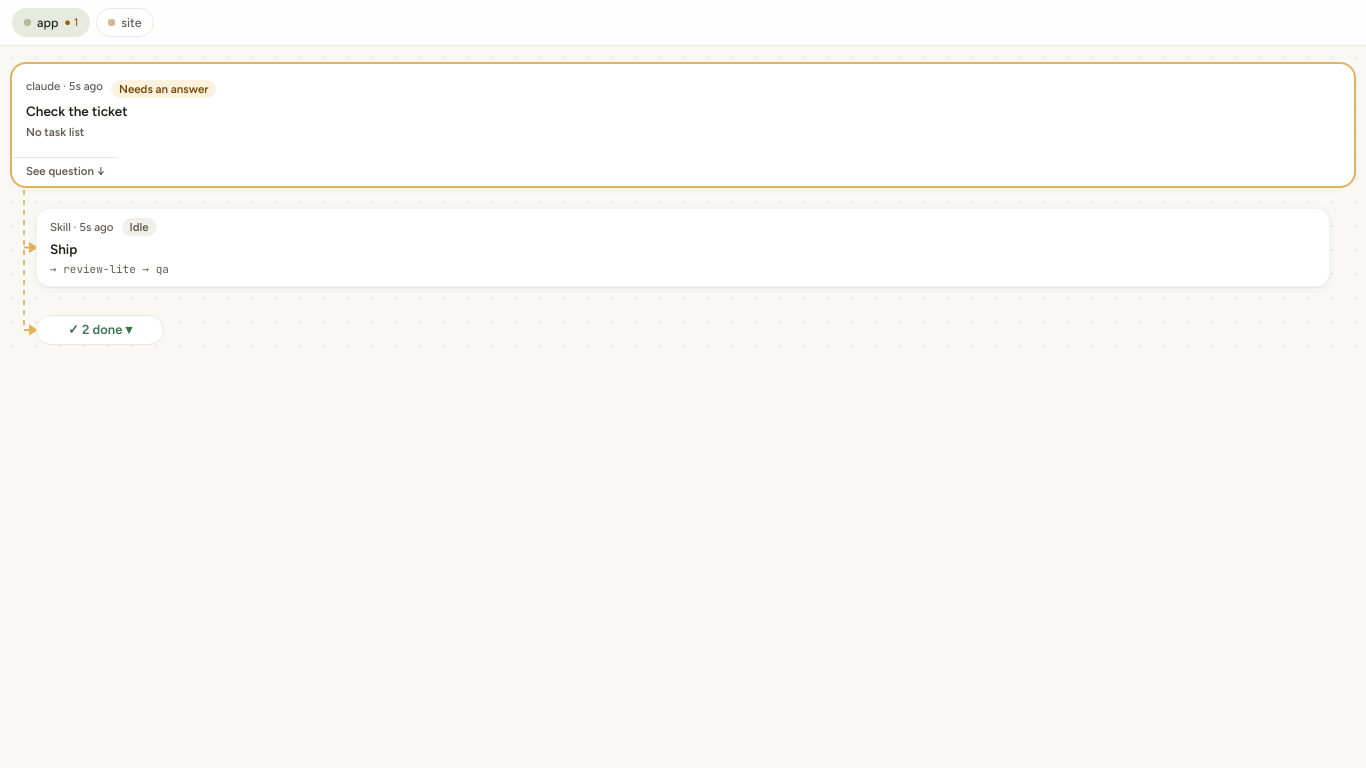
phone map › a card waiting on you opens its question in a sheet
Click the button "Needs an answer" at (683,125), box x1=12 y1=64 x2=1354 y2=186
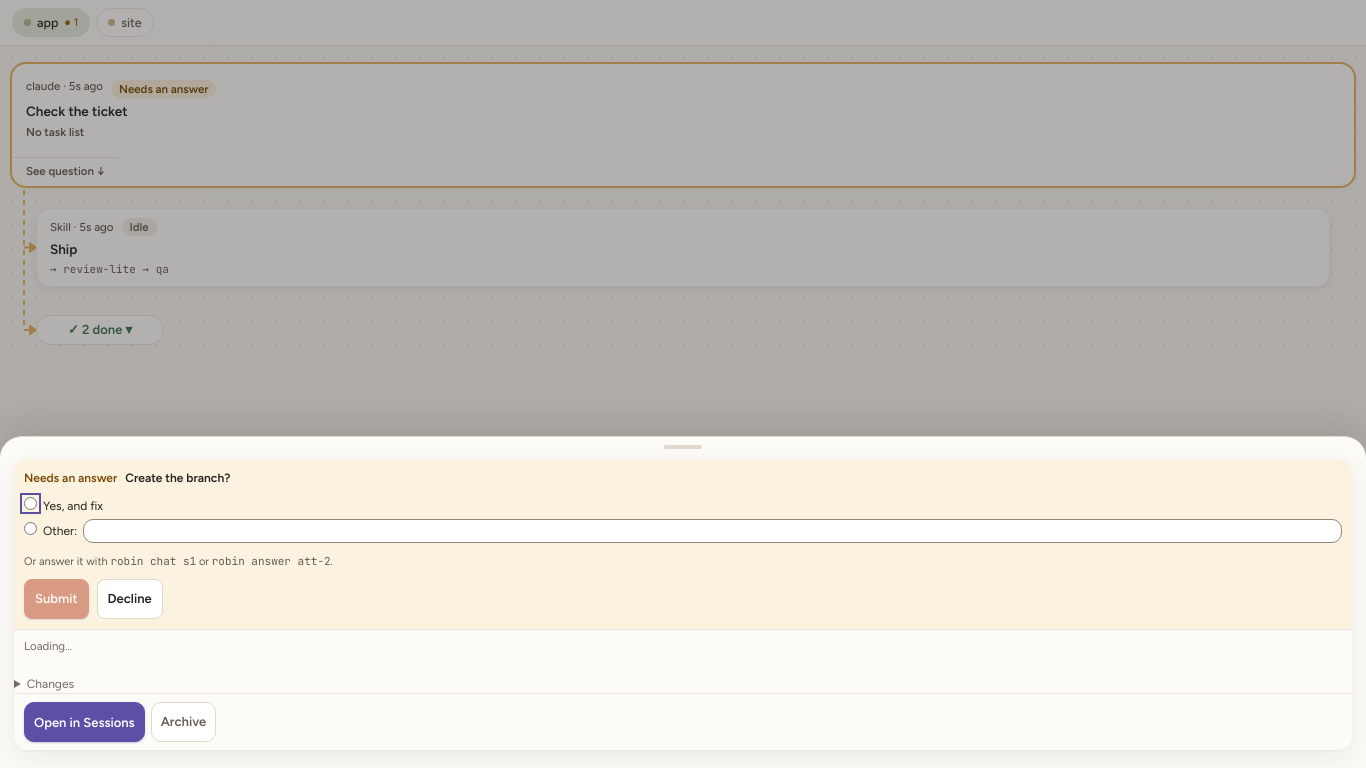
Result: the dialog shows "Yes, and fix" at x1=43 y1=499 x2=103 y2=513
Result: the submit button is shown at x1=24 y1=579 x2=89 y2=619
Press Escape
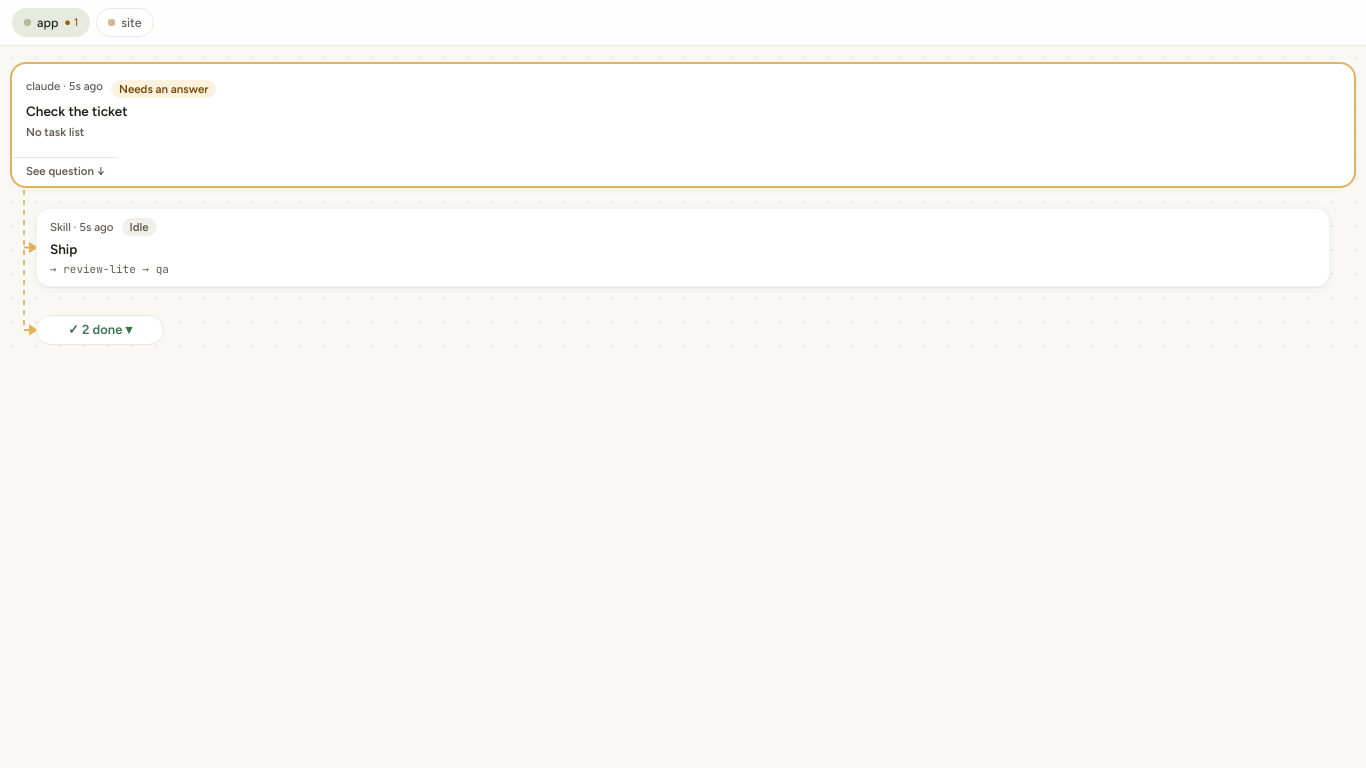
Result: the dialog is gone
